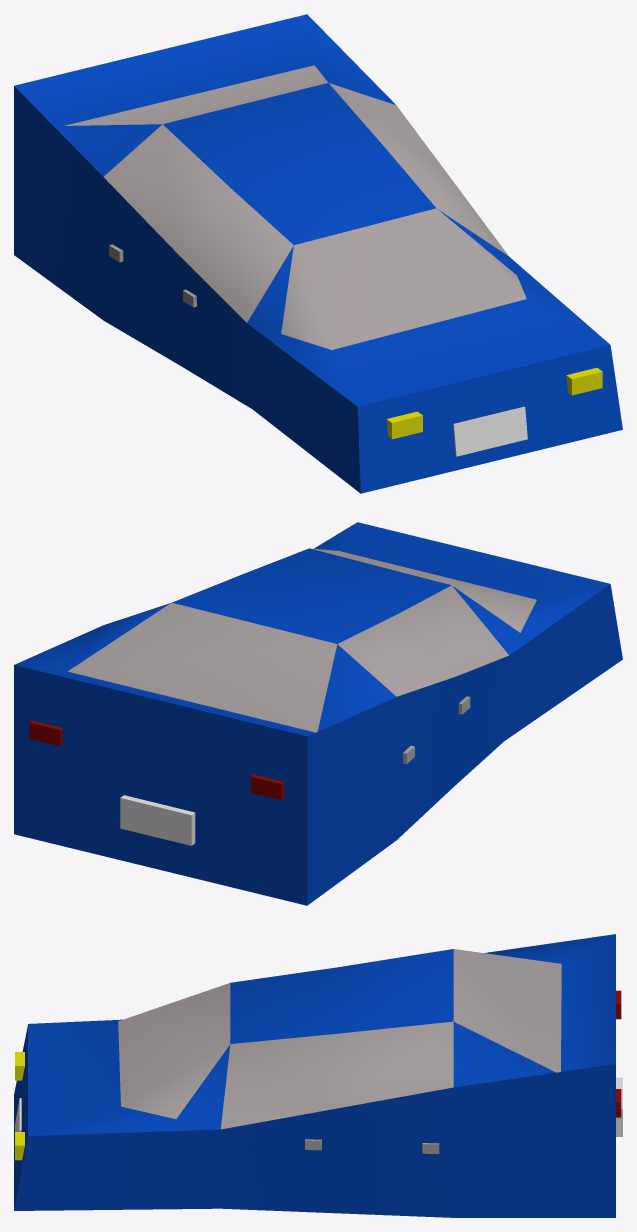
Rendered from BlueCarModel.fbx.
3 renders of one model, top to bottom at view 1: azimuth 30°, elevation 25°; view 2: azimuth 150°, elevation 25°; view 3: azimuth 270°, elevation 25°, orthographic. The views are drawn at different scales.
Parts seen in each view (by area): view 1: Car, NumberPlate2, HeadLight_1, HeadLight_2; view 2: Car, NumberPlate1, BrakeLight_2, BrakeLight_1; view 3: Car.
Part boxes in pixels (box(x1,y1,x2,y2)): Car: box(14, 14, 622, 493); NumberPlate2: box(453, 406, 527, 456); HeadLight_1: box(566, 367, 602, 395); HeadLight_2: box(386, 411, 422, 439); Car: box(14, 522, 622, 905); NumberPlate1: box(120, 795, 195, 845); BrakeLight_2: box(250, 774, 284, 800); BrakeLight_1: box(29, 720, 62, 746); Car: box(14, 934, 615, 1217).
Bounding box in the file's own units: 2.42 × 1.42 × 4.73.
